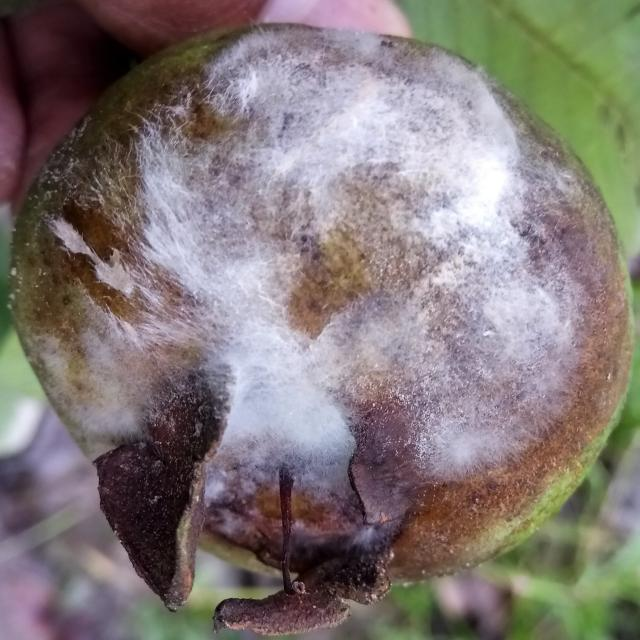Phytopthora: (13, 25, 631, 634)
